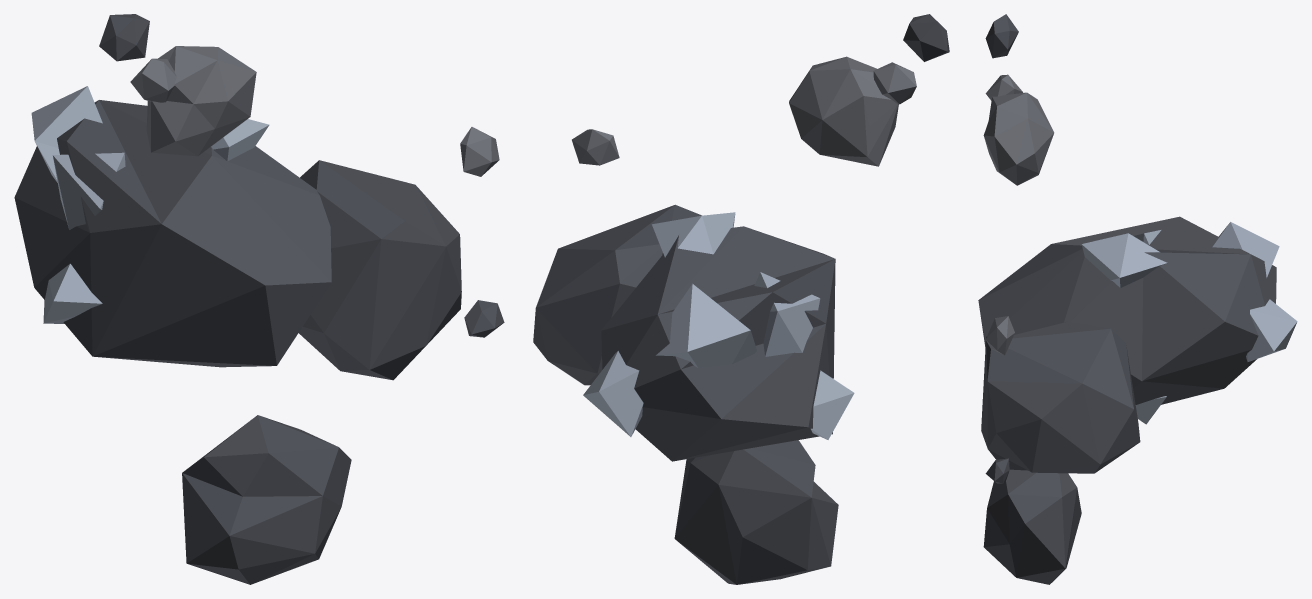
Rendered from SM_Rock_Iron_01.fbx.
3 views of the same model, side by side, from view 1: azimuth 30°, elevation 25°; view 2: azimuth 150°, elevation 25°; view 3: azimuth 270°, elevation 25° (orthographic). The views are drawn at different scales.
Parts seen in each view (by area): view 1: fam_rock_dark, fam_rock, fam_iron; view 2: fam_rock_dark, fam_iron, fam_rock; view 3: fam_rock_dark, fam_iron, fam_rock.
Boxes of the visible parts, x1,y1,x2,y2 form: fam_rock_dark: [14, 14, 504, 584]; fam_rock: [130, 46, 499, 176]; fam_iron: [31, 86, 269, 323]; fam_rock_dark: [533, 14, 949, 584]; fam_iron: [583, 212, 854, 439]; fam_rock: [572, 56, 916, 166]; fam_rock_dark: [978, 14, 1276, 584]; fam_iron: [1081, 222, 1297, 424]; fam_rock: [983, 74, 1054, 355].
Size of the model in its own units: 6.68 by 9.96 by 5.82.
